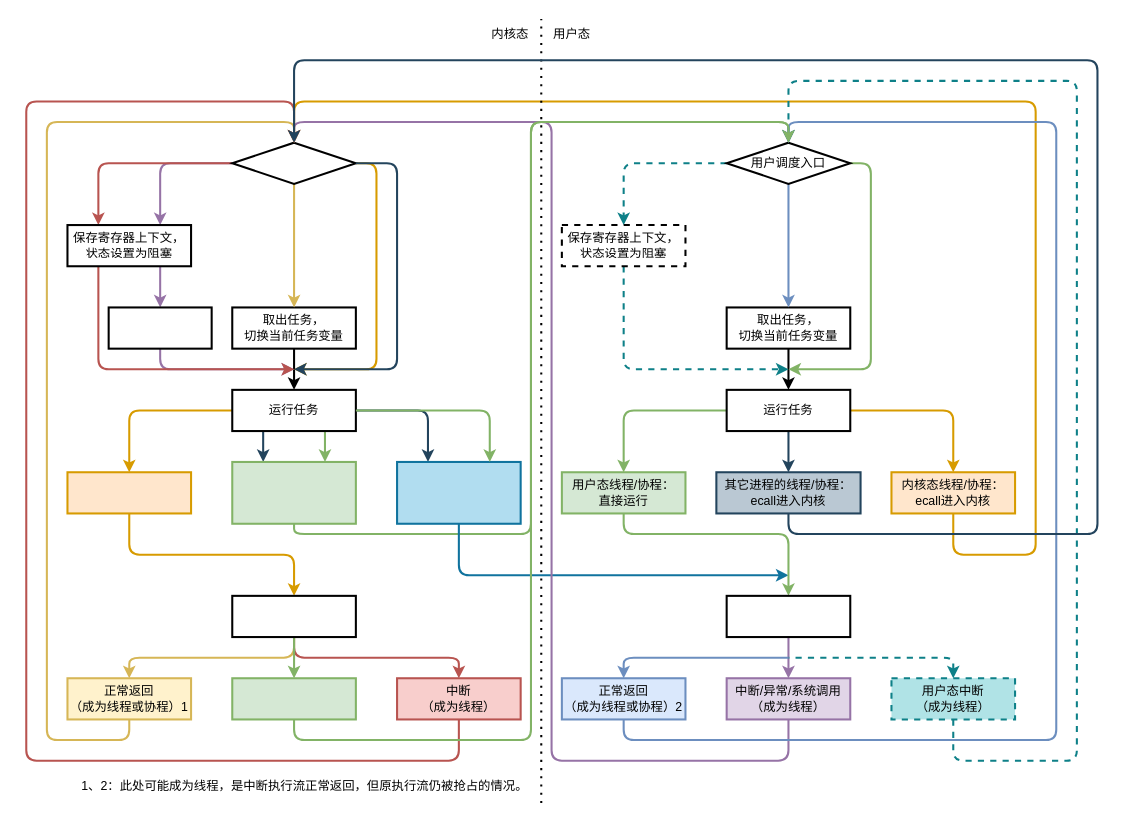
Image size: 1124x823. Some labels were removed from this diagram. The centre of each missing label's shape, as x and y in pixels:
"内核态任务" belongs at point 293,616.
"内核态线程/协程： 直接运行" belongs at point 129,492.
"内核调度入口" belongs at point 293,162.
"切换当前任务 特权级" belongs at point 159,327.
"切换特权级， 回到用户态" belongs at point 293,698.
"用户态任务" belongs at point 788,616.
"用户态协程： 切换地址空间， sret返回用户态调度器" belongs at point 293,492.
"用户态线程： 切换地址空间， sret返回任务" belongs at point 458,492.
